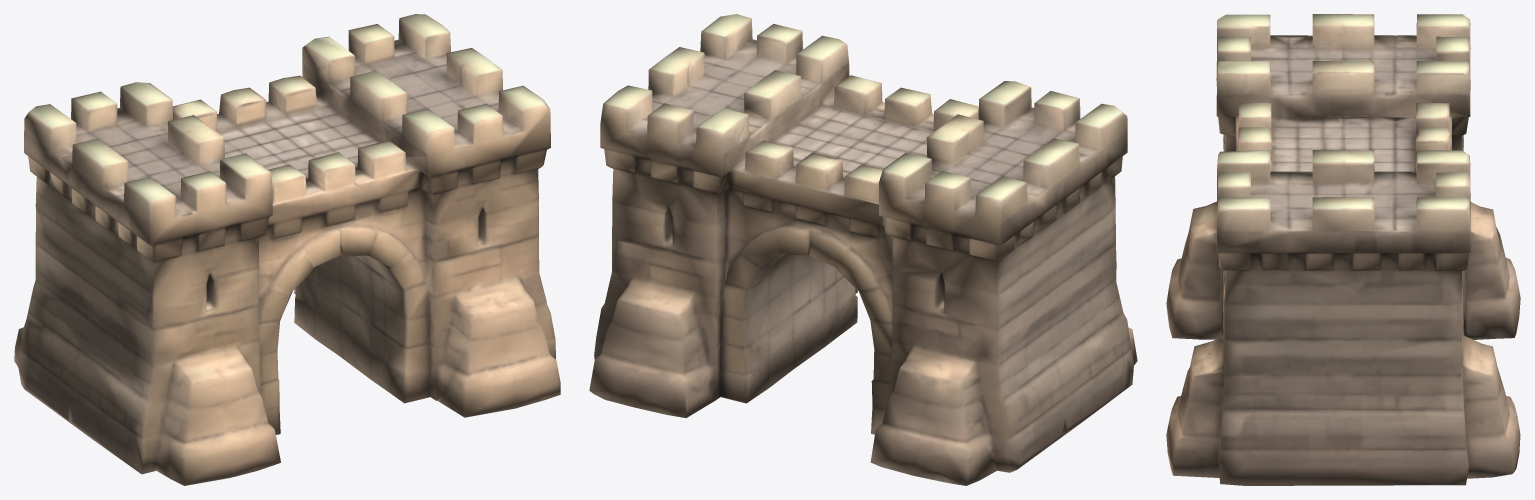
Rendered from gate.glb.
3 renders of one model, left to right at view 1: azimuth 30°, elevation 25°; view 2: azimuth 150°, elevation 25°; view 3: azimuth 270°, elevation 25°, orthographic.
Visible parts, largest first — view 1: geometry_0.001; view 2: geometry_0.001; view 3: geometry_0.001.
Boxes of the visible parts, left/top/right/bottom form: geometry_0.001: left=14, top=14, right=560, bottom=485; geometry_0.001: left=589, top=14, right=1137, bottom=485; geometry_0.001: left=1166, top=14, right=1520, bottom=485.
Bounding box in the file's own units: 1.99 × 1.24 × 1.46.
Materials: 1 (1 with a texture image).
